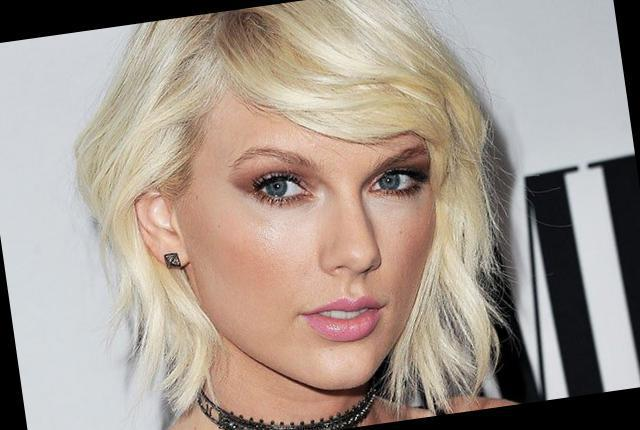Sober: (191, 111, 428, 366)
